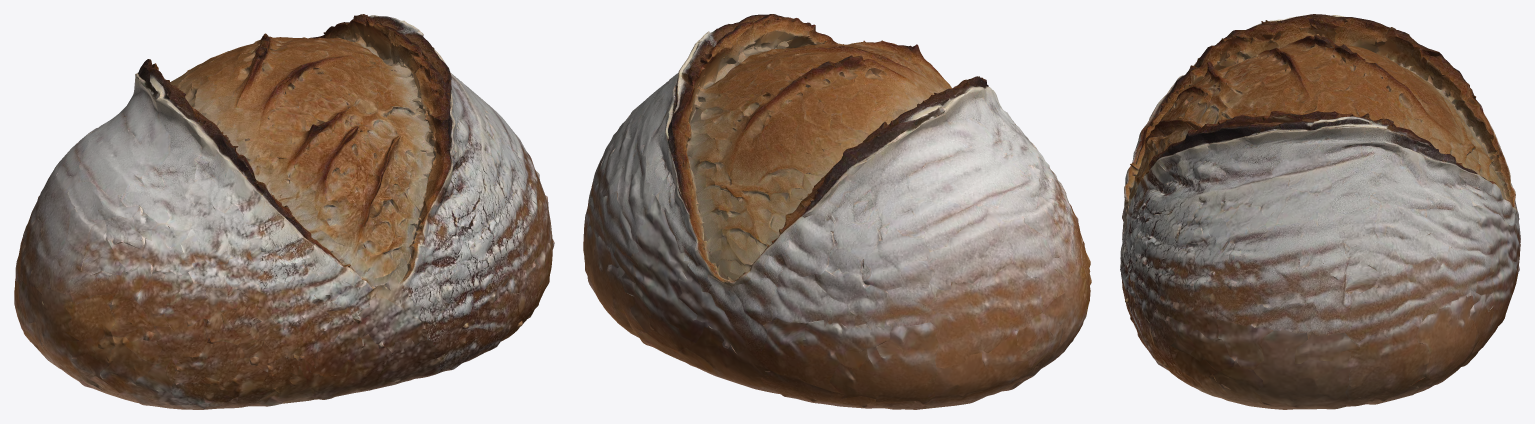
Rendered from loaf.glb.
The picture shows the model from 3 angles, left to right: view 1: azimuth 30°, elevation 25°; view 2: azimuth 150°, elevation 25°; view 3: azimuth 270°, elevation 25°; orthographic projection. The views are drawn at different scales.
Parts seen in each view (by area): view 1: mesh_node; view 2: mesh_node; view 3: mesh_node.
Part boxes in pixels (x1,y1,x2,y2): mesh_node: [14, 14, 554, 409]; mesh_node: [583, 14, 1091, 409]; mesh_node: [1120, 14, 1520, 409].
Bounding box in the file's own units: 1.9 × 1.09 × 1.43.
1 material, 1 textured.
